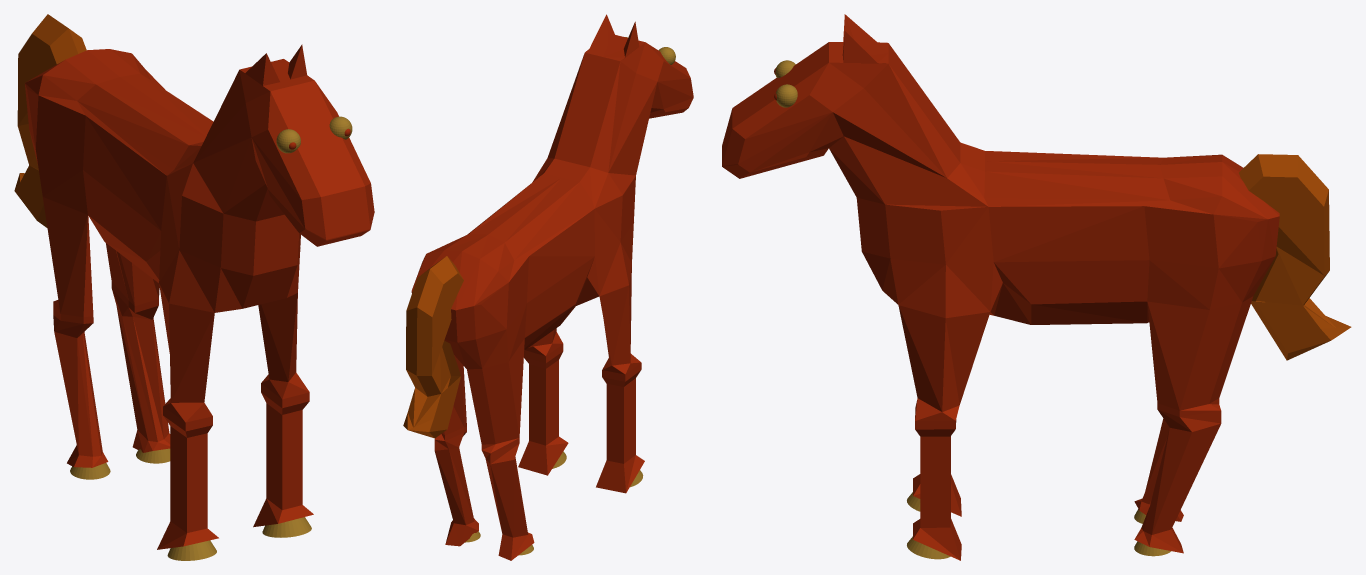
The model's file is horse_FBX.FBX.
3 renders of one model, left to right at view 1: azimuth 30°, elevation 25°; view 2: azimuth 150°, elevation 25°; view 3: azimuth 270°, elevation 25°, orthographic. The views are drawn at different scales.
Parts seen in each view (by area): view 1: Cube; view 2: Cube; view 3: Cube.
Boxes of the visible parts, <box> form: Cube: <box>14,14,374,560</box>; Cube: <box>403,14,693,560</box>; Cube: <box>722,14,1351,560</box>.
Size of the model in its own units: 1.04 by 3.85 by 4.29.
